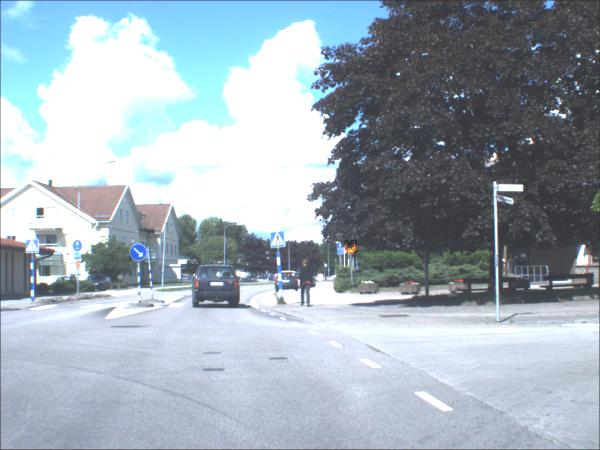50_SIGN: (345, 241, 359, 255)
PASS_RIGHT_SIDE: (130, 244, 149, 262)
PEDESTRIAN_CROSSING: (272, 233, 288, 249), (27, 241, 41, 255)
